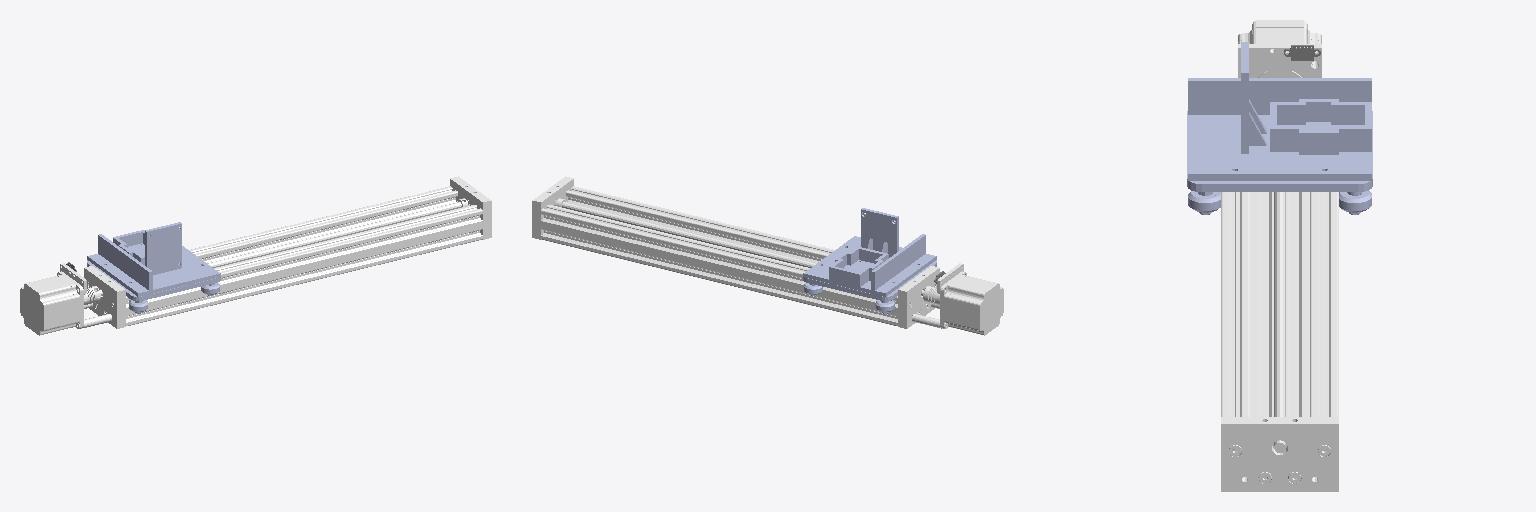
URDF robot description (sting_carriage_description):
<robot
  name="sting_carriage_description">
  <link
    name="carriage_base">
    <inertial>
      <origin
        xyz="0.167060618559883 3.79365166004036E-06 -0.00965640428281041"
        rpy="0 0 0" />
      <mass
        value="0.699726153260739" />
      <inertia
        ixx="0.000529149363493783"
        ixy="4.66130830711204E-07"
        ixz="0.000555748330443739"
        iyy="0.0294300280099401"
        iyz="-2.93910039380959E-08"
        izz="0.0296524811775225" />
    </inertial>
    <visual>
      <origin
        xyz="0 0 0"
        rpy="0 0 0" />
      <geometry>
        <mesh
          filename="package://sting_carriage_description/meshes/carriage_base.STL" />
      </geometry>
      <material
        name="">
        <color
          rgba="1 1 1 1" />
      </material>
    </visual>
    <collision>
      <origin
        xyz="0 0 0"
        rpy="0 0 0" />
      <geometry>
        <mesh
          filename="package://sting_carriage_description/meshes/carriage_base.STL" />
      </geometry>
    </collision>
  </link>
  <link
    name="carriage_slider">
    <inertial>
      <origin
        xyz="0.000156693213846357 -0.0618128630425778 -0.00323427667463473"
        rpy="0 0 0" />
      <mass
        value="0.112932852597131" />
      <inertia
        ixx="0.000168948390924987"
        ixy="1.2159591448882E-08"
        ixz="-8.88631626187684E-08"
        iyy="0.000168996514994476"
        iyz="6.3343116038627E-07"
        izz="0.000329383199257969" />
    </inertial>
    <visual>
      <origin
        xyz="0 0 0"
        rpy="0 0 0" />
      <geometry>
        <mesh
          filename="package://sting_carriage_description/meshes/carriage_slider.STL" />
      </geometry>
      <material
        name="">
        <color
          rgba="0.792156862745098 0.819607843137255 0.933333333333333 1" />
      </material>
    </visual>
    <collision>
      <origin
        xyz="0 0 0"
        rpy="0 0 0" />
      <geometry>
        <mesh
          filename="package://sting_carriage_description/meshes/carriage_slider.STL" />
      </geometry>
    </collision>
  </link>
  <joint
    name="slider_joint"
    type="prismatic">
    <origin
      xyz="0 0 0.0123"
      rpy="-2.612E-14 1.2049E-14 1.5708" />
    <parent
      link="carriage_base" />
    <child
      link="carriage_slider" />
    <axis
      xyz="0 -1 0" />
    <limit
      lower="0"
      upper="0.4"
      effort="1.1"
      velocity="0.2" />
  </joint>
  <link
    name="payload">
    <inertial>
      <origin
        xyz="-0.0410713570649904 0.00496235121108524 0.0100320998990741"
        rpy="0 0 0" />
      <mass
        value="0.124940773764765" />
      <inertia
        ixx="0.000129602456346542"
        ixy="1.22675861971827E-06"
        ixz="7.24933734601044E-06"
        iyy="0.000167157946548438"
        iyz="-4.63009806257588E-06"
        izz="0.000256850277650807" />
    </inertial>
    <visual>
      <origin
        xyz="0 0 0"
        rpy="0 0 0" />
      <geometry>
        <mesh
          filename="package://sting_carriage_description/meshes/payload.STL" />
      </geometry>
      <material
        name="">
        <color
          rgba="0.792156862745098 0.819607843137255 0.933333333333333 1" />
      </material>
    </visual>
    <collision>
      <origin
        xyz="0 0 0"
        rpy="0 0 0" />
      <geometry>
        <mesh
          filename="package://sting_carriage_description/meshes/payload.STL" />
      </geometry>
    </collision>
  </link>
  <joint
    name="payload_joint"
    type="fixed">
    <origin
      xyz="0.0430500000000003 -0.0625000000000459 0.00300000000000002"
      rpy="3.15544362088405E-30 -7.26931742313452E-18 7.23883640127473E-17" />
    <parent
      link="carriage_slider" />
    <child
      link="payload" />
    <axis
      xyz="0 0 0" />
  </joint>
  <link
    name="sensor_reading_surface" />
  <joint
    name="sensor_reading_joint"
    type="fixed">
    <origin
      xyz="0 -0.02 0.0205"
      rpy="0 -7.26931742313452E-18 1.69981808512144E-16" />
    <parent
      link="carriage_slider" />
    <child
      link="sensor_reading_surface" />
    <axis
      xyz="0 0 0" />
  </joint>
  <link
    name="right_sensor">
    <inertial>
      <origin
        xyz="-0.0017532582061619 4.27804446363547E-05 0.00214459124724793"
        rpy="0 0 0" />
      <mass
        value="0.00031258592156757" />
      <inertia
        ixx="1.16655193608404E-08"
        ixy="1.30303505907792E-11"
        ixz="2.18898551781116E-11"
        iyy="2.77078095612999E-09"
        iyz="-1.73164791414335E-12"
        izz="9.07515985909764E-09" />
    </inertial>
    <visual>
      <origin
        xyz="0 0 0"
        rpy="0 0 0" />
      <geometry>
        <mesh
          filename="package://sting_carriage_description/meshes/right_sensor.STL" />
      </geometry>
      <material
        name="">
        <color
          rgba="0.6 0.6 0.6 1" />
      </material>
    </visual>
    <collision>
      <origin
        xyz="0 0 0"
        rpy="0 0 0" />
      <geometry>
        <mesh
          filename="package://sting_carriage_description/meshes/right_sensor.STL" />
      </geometry>
    </collision>
  </link>
  <joint
    name="right_sensor_joint"
    type="fixed">
    <origin
      xyz="-0.0422 -0.01498 0.03177"
      rpy="4.8187E-17 0 0" />
    <parent
      link="carriage_base" />
    <child
      link="right_sensor" />
    <axis
      xyz="0 0 0" />
  </joint>
  <link
    name="left_sensor">
    <inertial>
      <origin
        xyz="-0.0017532582061619 4.27804446363478E-05 0.00214459124724793"
        rpy="0 0 0" />
      <mass
        value="0.000312585921567569" />
      <inertia
        ixx="1.16655193608404E-08"
        ixy="1.30303505907791E-11"
        ixz="2.18898551781117E-11"
        iyy="2.77078095612999E-09"
        iyz="-1.7316479141429E-12"
        izz="9.07515985909763E-09" />
    </inertial>
    <visual>
      <origin
        xyz="0 0 0"
        rpy="0 0 0" />
      <geometry>
        <mesh
          filename="package://sting_carriage_description/meshes/left_sensor.STL" />
      </geometry>
      <material
        name="">
        <color
          rgba="0.6 0.6 0.6 1" />
      </material>
    </visual>
    <collision>
      <origin
        xyz="0 0 0"
        rpy="0 0 0" />
      <geometry>
        <mesh
          filename="package://sting_carriage_description/meshes/left_sensor.STL" />
      </geometry>
    </collision>
  </link>
  <joint
    name="left_sensor_joint"
    type="fixed">
    <origin
      xyz="-0.0421999999999995 0.0150200728763124 0.0317700000000001"
      rpy="4.8186763221578E-17 0 0" />
    <parent
      link="carriage_base" />
    <child
      link="left_sensor" />
    <axis
      xyz="0 0 0" />
  </joint>
</robot>

--- What the picture shows (computed from the rendered views, not written in the file) ---
Views: 3 orthographic renders of the robot side by side, from view 1: azimuth 30°, elevation 25°; view 2: azimuth 150°, elevation 25°; view 3: azimuth 270°, elevation 25°.
Model sting_carriage_description with 6 links and 5 joints (1 prismatic, 4 fixed), rooted at carriage_base, posed all joints at 0.
Links seen in each view (by area): view 1: carriage_base, payload, carriage_slider; view 2: carriage_base, payload, carriage_slider; view 3: carriage_base, payload, carriage_slider.
Link boxes in pixels (box(x1,y1,x2,y2)): carriage_base: box(20, 176, 491, 335); payload: box(87, 222, 220, 296); carriage_slider: box(87, 260, 220, 313); carriage_base: box(532, 176, 1003, 335); payload: box(803, 208, 936, 296); carriage_slider: box(803, 260, 936, 313); carriage_base: box(1221, 20, 1338, 491); payload: box(1188, 42, 1371, 180); carriage_slider: box(1187, 111, 1372, 214).
Size in the robot's own frame: 0.62 by 0.125 by 0.1127 metres.
4 mesh visuals loaded from 5 distinct referenced files (4 binary STL); not drawn: 1 (reference not matched to a file when rendering).